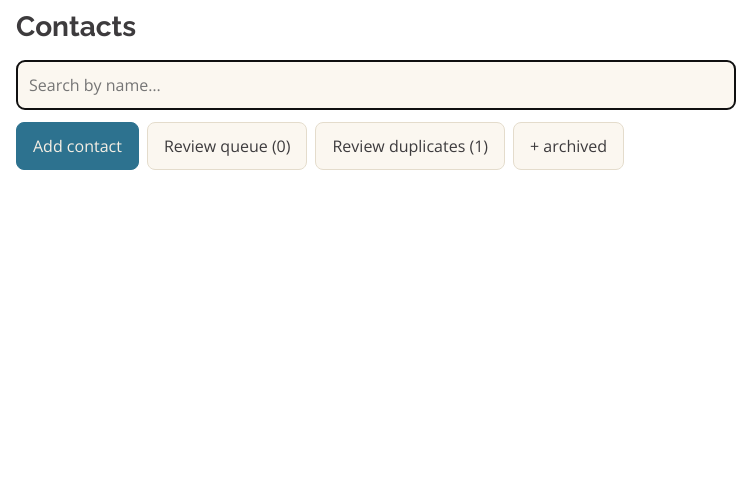
the duplicates worklist row (feature 069, M-R18) › rejecting posts the rejection and removes the row
Click the button "Review duplicates (1)". click: click(410, 146)
box: top-left (316, 122), bottom-right (505, 170)
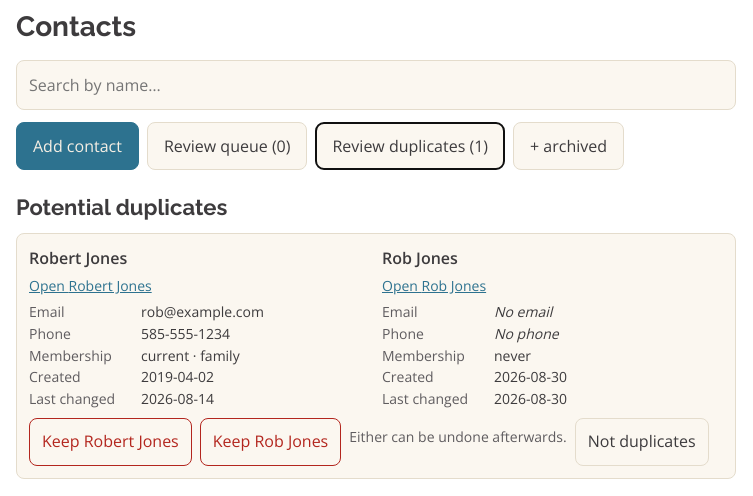
Click the button "Not duplicates". click: click(642, 442)
box: top-left (575, 418), bottom-right (709, 466)
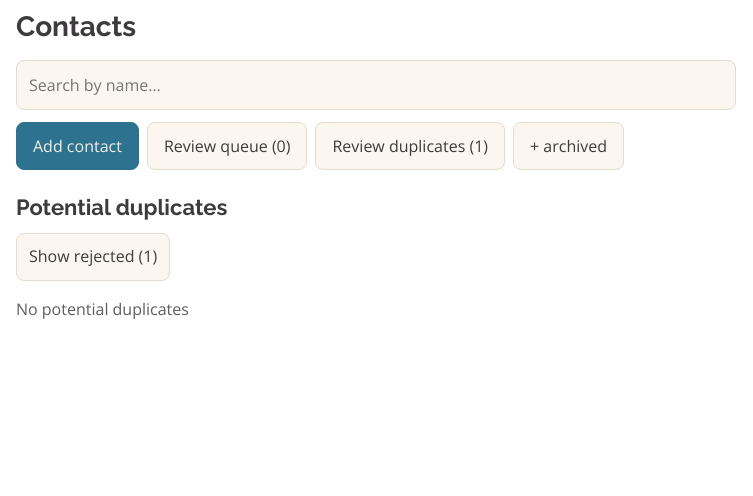
Now the text "Rob Jones" is gone
